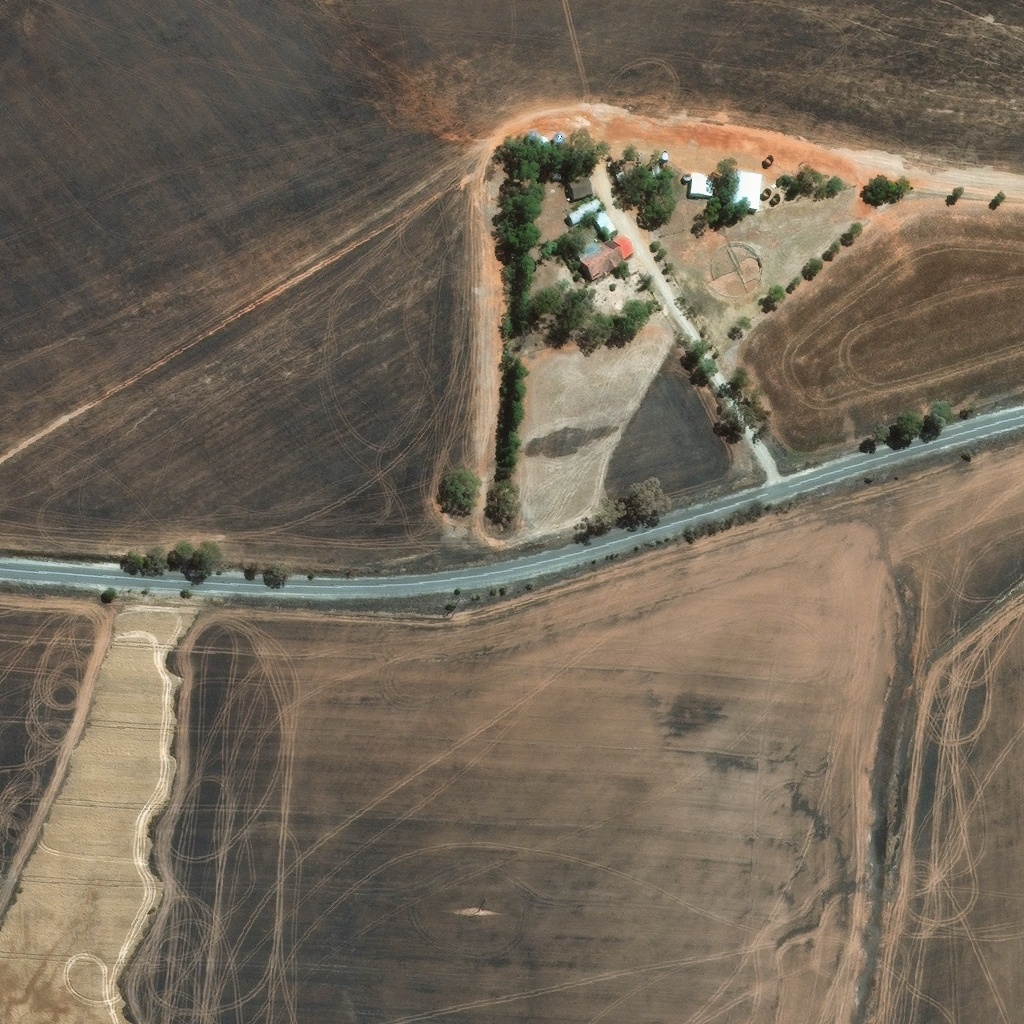0 no-damage: (576, 233, 635, 281), (725, 172, 761, 210), (567, 197, 602, 223), (593, 208, 617, 236), (568, 176, 593, 199), (690, 176, 713, 196), (614, 168, 625, 179), (659, 155, 668, 163), (651, 167, 660, 175)
4 un-classified: (682, 133, 694, 143)
